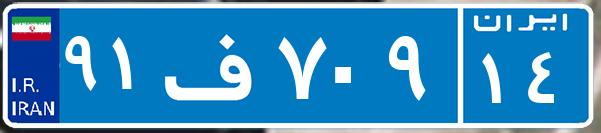0: (330, 28, 385, 110)
1: (475, 38, 525, 113), (110, 28, 158, 105)
4: (525, 38, 570, 115)
7: (273, 28, 330, 110)
9: (385, 28, 445, 110), (57, 26, 110, 107)
ف: (158, 15, 273, 115)
